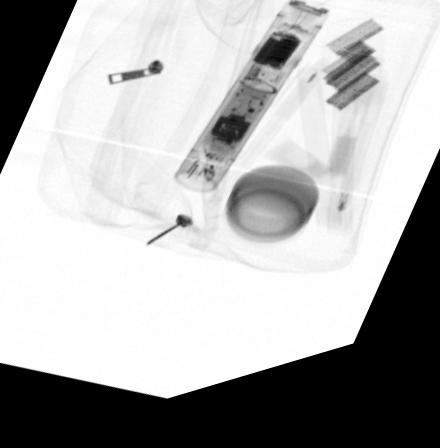Baton: (171, 13, 333, 206)
